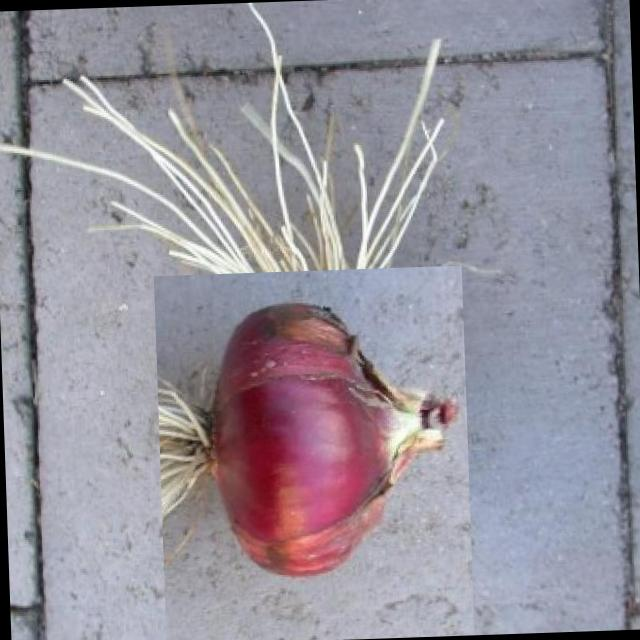Onion: (138, 280, 488, 631)
